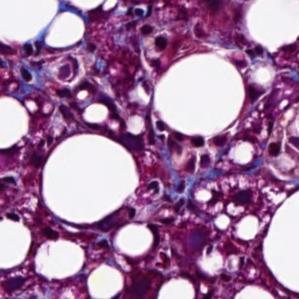inflammation: (15, 44, 89, 95), (159, 132, 219, 181), (132, 182, 188, 231), (207, 187, 263, 224), (212, 255, 260, 290)
